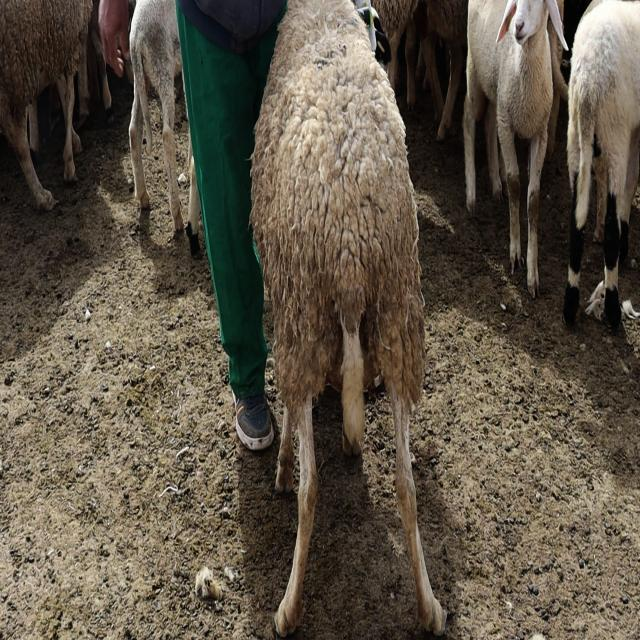Score_2: (250, 0, 447, 636)
